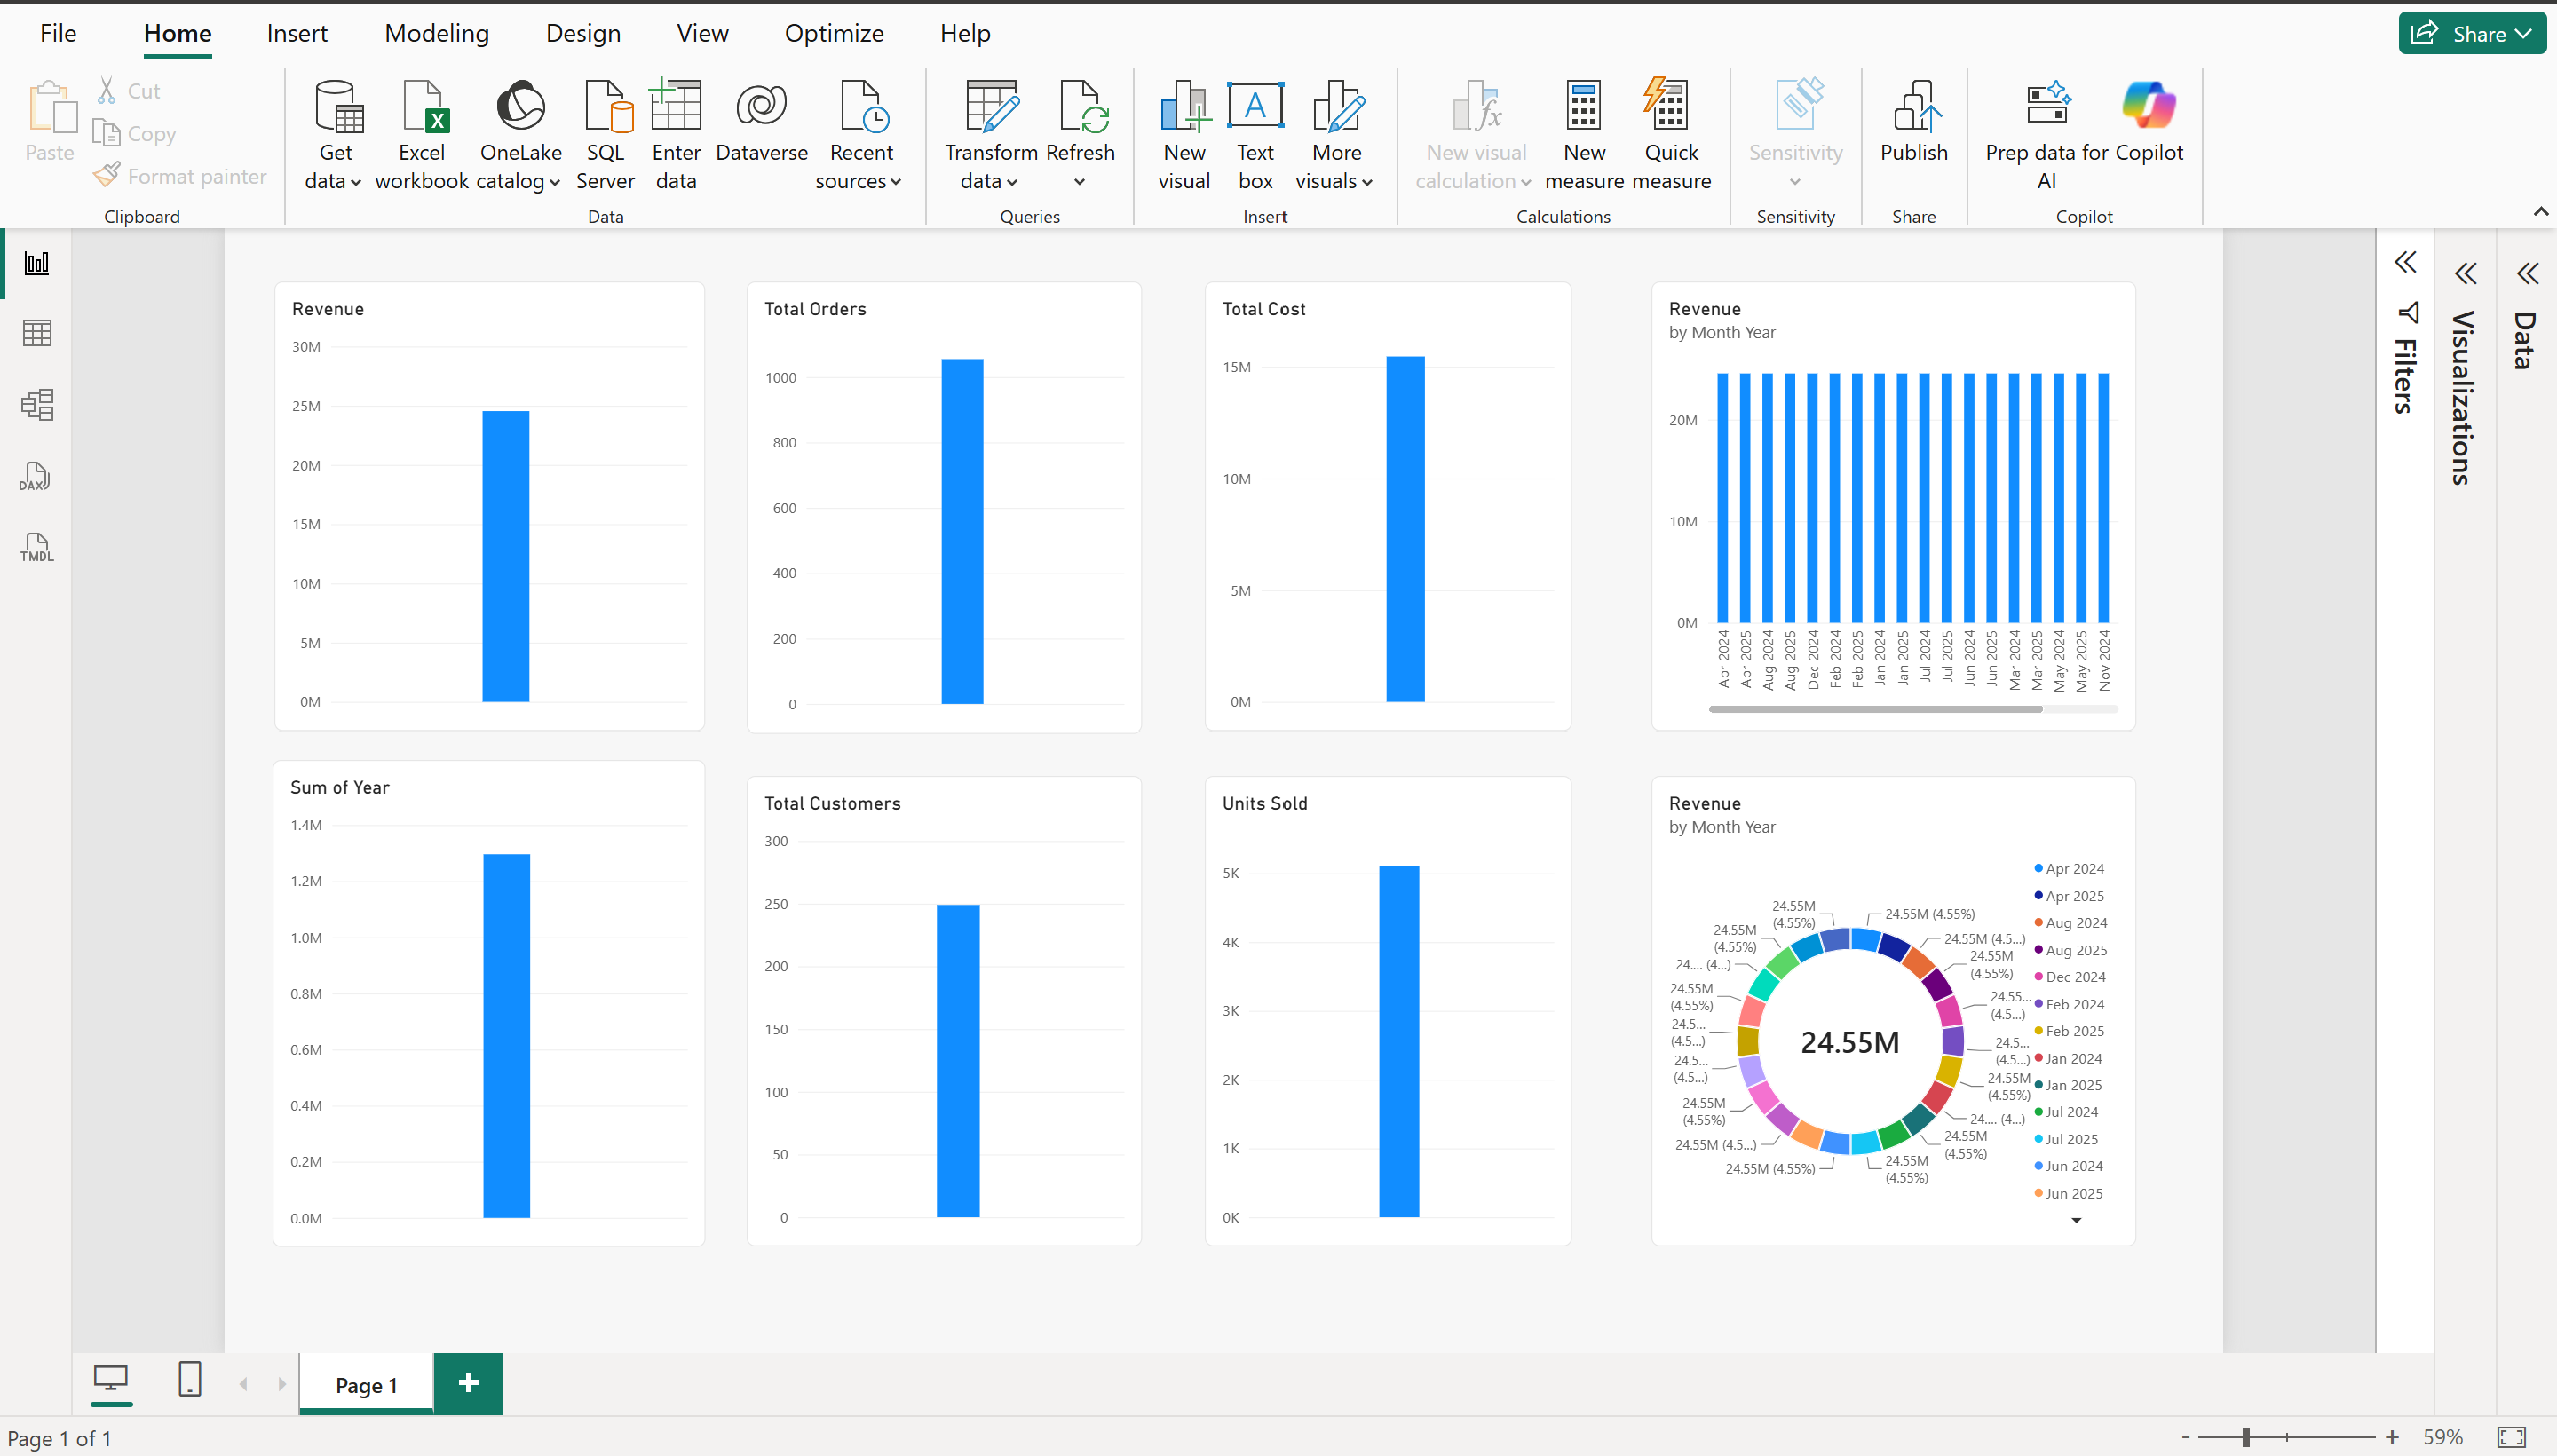

This screenshot's page, from the dashboard's own definition file:
{"tool":"powerbi","page":{"name":"Page 1","canvas":[1920,1080],"ordinal":0},"visuals":[{"type":"columnChart","fields":{"Y":["Date.Revenue"]},"box":[48,52,414,432],"z":0},{"type":"columnChart","fields":{"Y":["Date.Total Cost"]},"box":[942,52,352,432],"z":1},{"type":"columnChart","fields":{"Y":["Date.Total Customers"]},"box":[502,526,380,452],"z":2},{"type":"columnChart","fields":{"Y":["Date.Total Orders"]},"box":[502,52,380,434],"z":3},{"type":"columnChart","fields":{"Y":["Date.Units Sold"]},"box":[942,526,352,452],"z":4},{"type":"columnChart","fields":{"Y":["Sum(Date.Year)"]},"box":[46,510,416,468],"z":5},{"type":"lineClusteredColumnComboChart","fields":{"Category":["Date.Month Year"],"Y":["Date.Revenue"]},"box":[1370,52,466,432],"z":6},{"type":"donutChart","fields":{"Category":["Date.Month Year"],"Y":["Date.Revenue"]},"box":[1370,526,466,452],"z":7}]}

Visuals, with their boxes on the page's 1920x1080 design canvas (x1, y1, x2, y2). These are canvas units, not pixel positions in the 2557x1456 screenshot, which may show the page scaled, cropped or inside an application window:
columnChart - Date.Revenue: <region>48, 52, 462, 484</region>
columnChart - Date.Total Cost: <region>942, 52, 1294, 484</region>
columnChart - Date.Total Customers: <region>502, 526, 882, 978</region>
columnChart - Date.Total Orders: <region>502, 52, 882, 486</region>
columnChart - Date.Units Sold: <region>942, 526, 1294, 978</region>
columnChart - Sum(Date.Year): <region>46, 510, 462, 978</region>
lineClusteredColumnComboChart - Date.Month Year x Date.Revenue: <region>1370, 52, 1836, 484</region>
donutChart - Date.Month Year x Date.Revenue: <region>1370, 526, 1836, 978</region>
